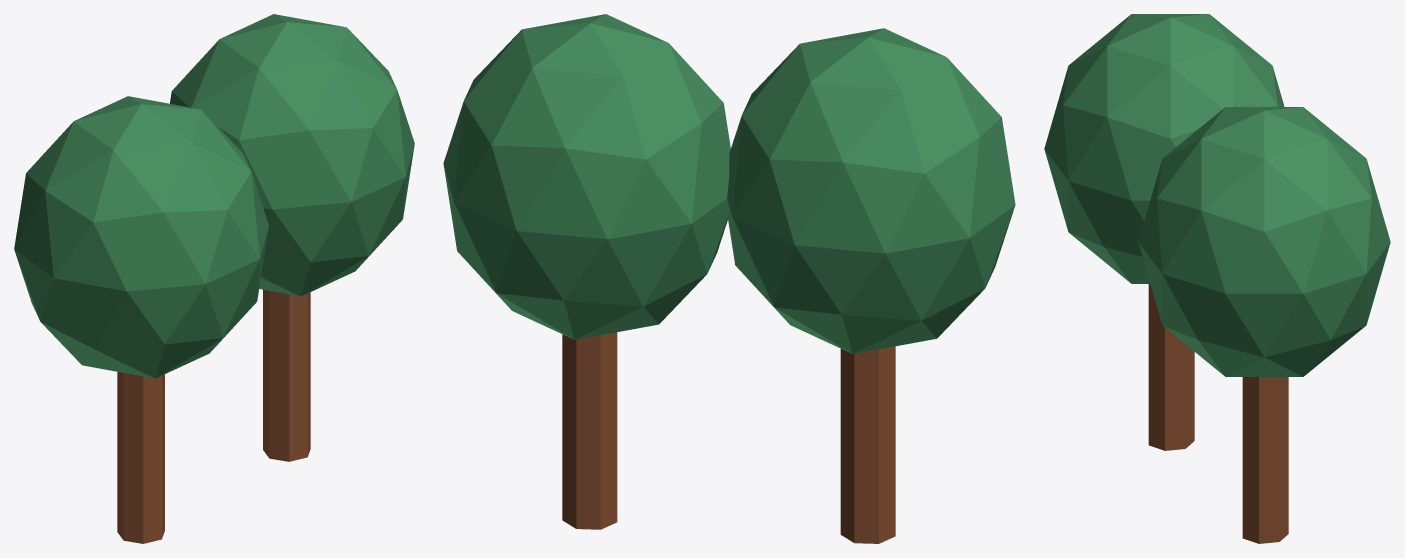
File: orchard.glb
The picture shows the model from 3 angles, left to right: view 1: azimuth 30°, elevation 25°; view 2: azimuth 150°, elevation 25°; view 3: azimuth 270°, elevation 25°; orthographic projection. The views are drawn at different scales.
Parts seen in each view (by area): view 1: Crown, Crown.001, Trunk, Trunk.001; view 2: Crown, Crown.001, Trunk.001, Trunk; view 3: Crown.001, Crown, Trunk.001, Trunk.
Part boxes in pixels (box(x1,y1,x2,y2)): Crown: box(14, 96, 268, 378); Crown.001: box(170, 14, 414, 296); Trunk: box(117, 372, 164, 543); Trunk.001: box(263, 289, 310, 461); Crown: box(727, 28, 1015, 353); Crown.001: box(443, 14, 730, 339); Trunk.001: box(562, 332, 617, 529); Trunk: box(840, 346, 895, 543); Crown.001: box(1138, 107, 1390, 376); Crown: box(1044, 14, 1284, 283); Trunk.001: box(1242, 377, 1288, 543); Trunk: box(1148, 284, 1194, 450).
Bounding box in the file's own units: 1.73 × 1.74 × 1.29.
